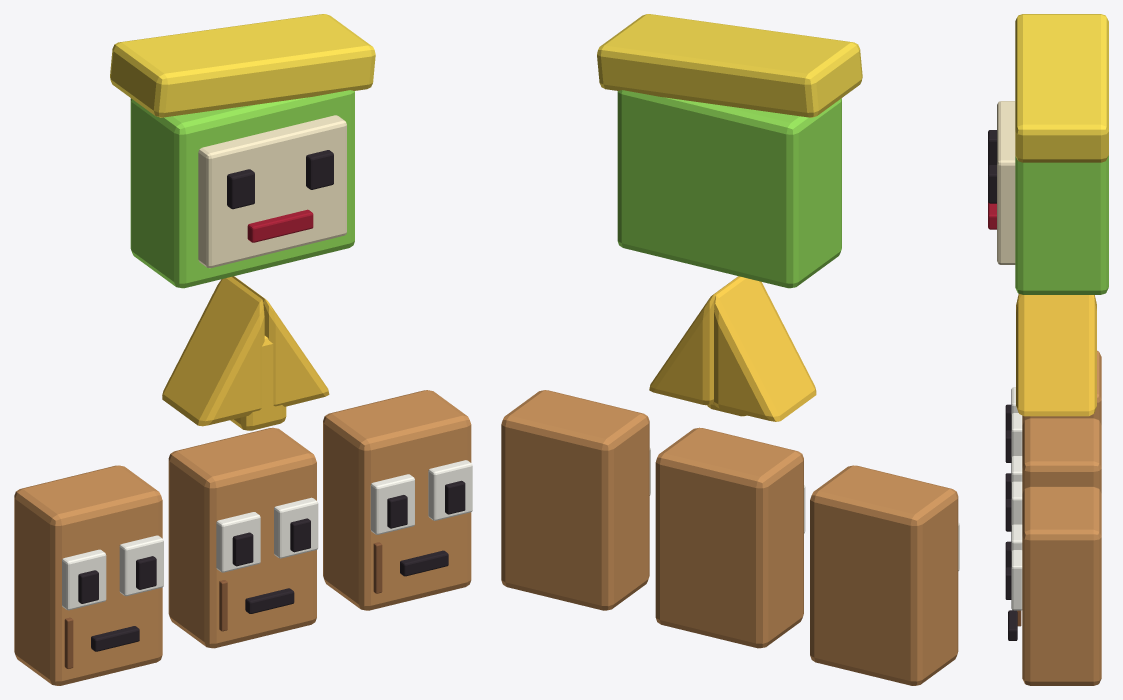
File: Merge.glb
3 renders of one model, left to right at view 1: azimuth 30°, elevation 25°; view 2: azimuth 150°, elevation 25°; view 3: azimuth 270°, elevation 25°, orthographic. The views are drawn at different scales.
Visible parts, largest first — view 1: Tung Tung log.001, Tung Tung log.002, Tung Tung log, Banana crown, Upgraded green head, Cream face, Arrow head prism.004, Arrow head prism.005, Eye white.004, Eye white.005, Eye white, Eye white.003 (+9 smaller); view 2: Upgraded green head, Tung Tung log.002, Tung Tung log, Tung Tung log.001, Banana crown, Arrow head prism.004, Arrow head prism.005; view 3: Tung Tung log.002, Banana crown, Upgraded green head, Arrow head prism.005, Tung Tung log.001, Cream face, Eye white.005, Tung Tung log, Eye white.003, Eye white.001, Upgraded eye.001, Upgraded eye (+7 smaller).
Boxes of the visible parts, x1,y1,x2,y2 form: Tung Tung log.001: (168,427,316,648); Tung Tung log.002: (323,390,471,610); Tung Tung log: (14,465,162,685); Banana crown: (110,14,375,117); Upgraded green head: (130,90,354,288); Cream face: (198,115,346,268); Arrow head prism.004: (162,277,264,426); Arrow head prism.005: (232,276,329,406); Eye white.004: (370,474,414,534); Eye white.005: (428,460,472,520); Eye white: (62,549,106,610); Eye white.003: (274,497,318,558); Upgraded green head: (617,90,841,288); Tung Tung log.002: (501,390,649,610); Tung Tung log: (810,465,958,685); Tung Tung log.001: (655,427,803,648); Banana crown: (597,14,862,117); Arrow head prism.004: (714,277,816,421); Arrow head prism.005: (649,276,740,405); Tung Tung log.002: (1022,486,1101,685); Banana crown: (1015,14,1108,162); Upgraded green head: (1015,155,1108,294); Arrow head prism.005: (1016,294,1096,416); Tung Tung log.001: (1022,418,1101,493); Cream face: (997,101,1015,264); Eye white.005: (1011,550,1022,610); Tung Tung log: (1022,350,1101,424); Eye white.003: (1011,481,1022,525); Eye white.001: (1011,413,1022,457); Upgraded eye.001: (988,165,996,203); Upgraded eye: (988,130,996,166).
Bounding box in the file's own units: 2.45 × 3.29 × 0.67.
